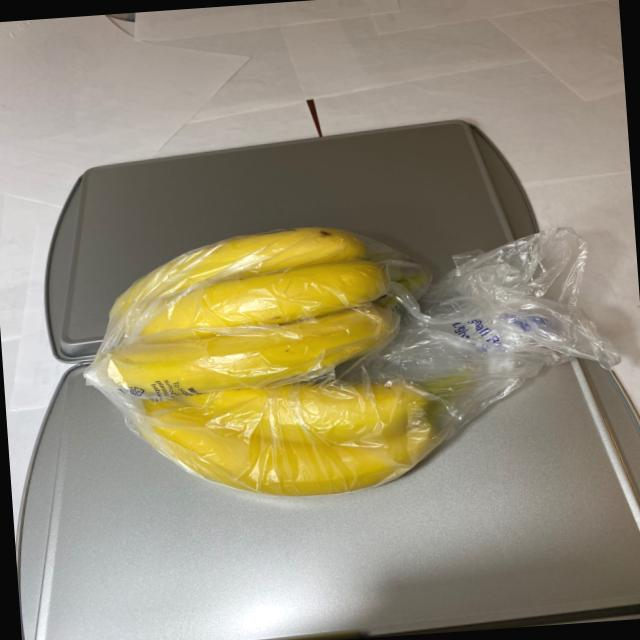banana: (82, 212, 468, 514)
